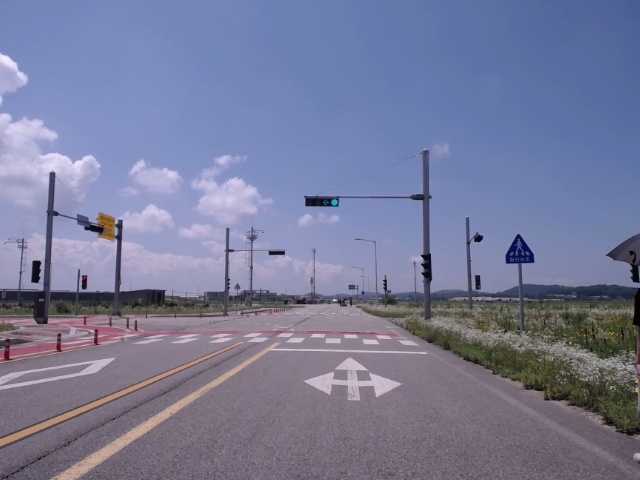all_green_4: (302, 194, 341, 206)
